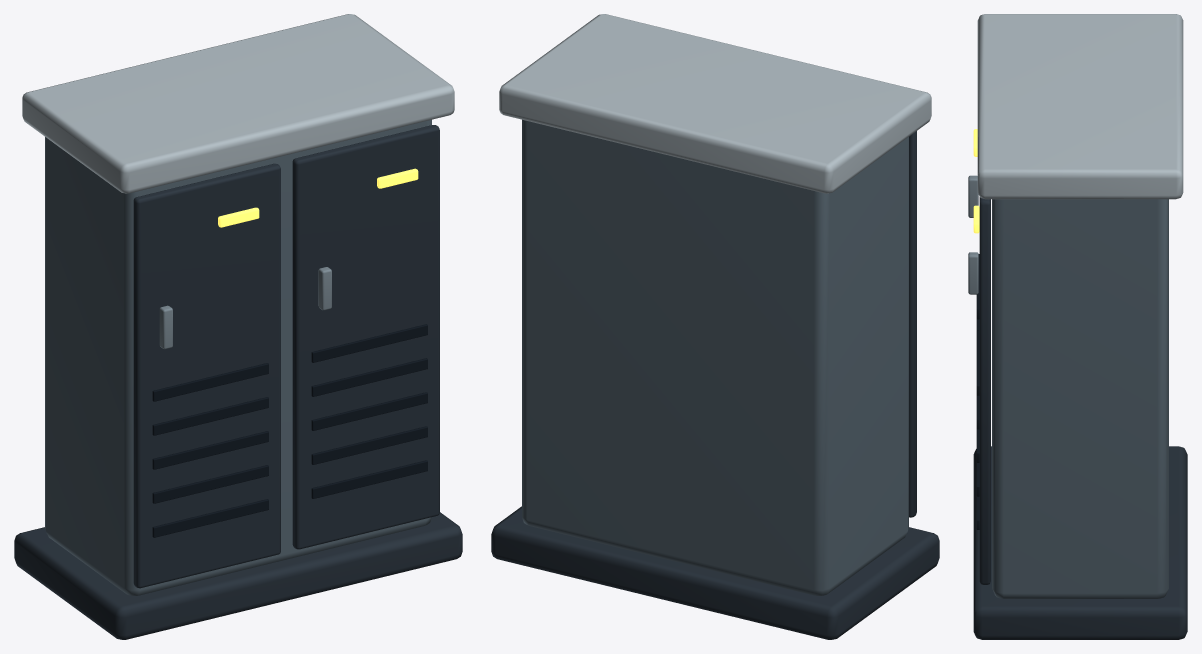
File: foundry_service_cabinet.fbx
3 views of the same model, side by side, from view 1: azimuth 30°, elevation 25°; view 2: azimuth 150°, elevation 25°; view 3: azimuth 270°, elevation 25° (orthographic).
Parts seen in each view (by area): view 1: foundry_service_cabinet_Geometry; view 2: foundry_service_cabinet_Geometry; view 3: foundry_service_cabinet_Geometry.
Part boxes in pixels (box(x1,y1,x2,y2)): foundry_service_cabinet_Geometry: box(14, 14, 462, 639); foundry_service_cabinet_Geometry: box(491, 14, 939, 639); foundry_service_cabinet_Geometry: box(968, 14, 1187, 639).
Size of the model in its own units: 1.92 by 2.51 by 1.06.
